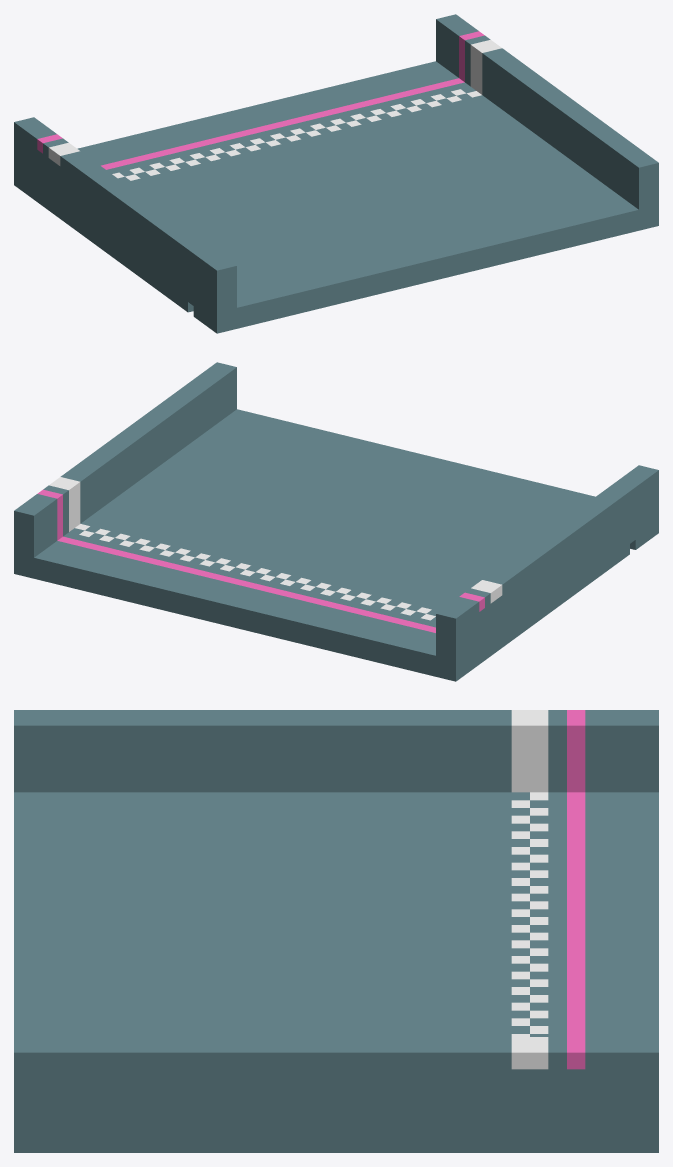
File: startpoint.fbx
3 renders of one model, top to bottom at view 1: azimuth 30°, elevation 25°; view 2: azimuth 150°, elevation 25°; view 3: azimuth 270°, elevation 25°, orthographic. The views are drawn at different scales.
Visible parts, largest first — view 1: 对象; view 2: 对象; view 3: 对象.
Boxes of the visible parts, left/top/right/bottom form: 对象: left=14, top=14, right=658, bottom=333; 对象: left=14, top=362, right=658, bottom=681; 对象: left=14, top=710, right=658, bottom=1152.
Bounding box in the file's own units: 44 × 6 × 35.
1 material, 1 textured.
